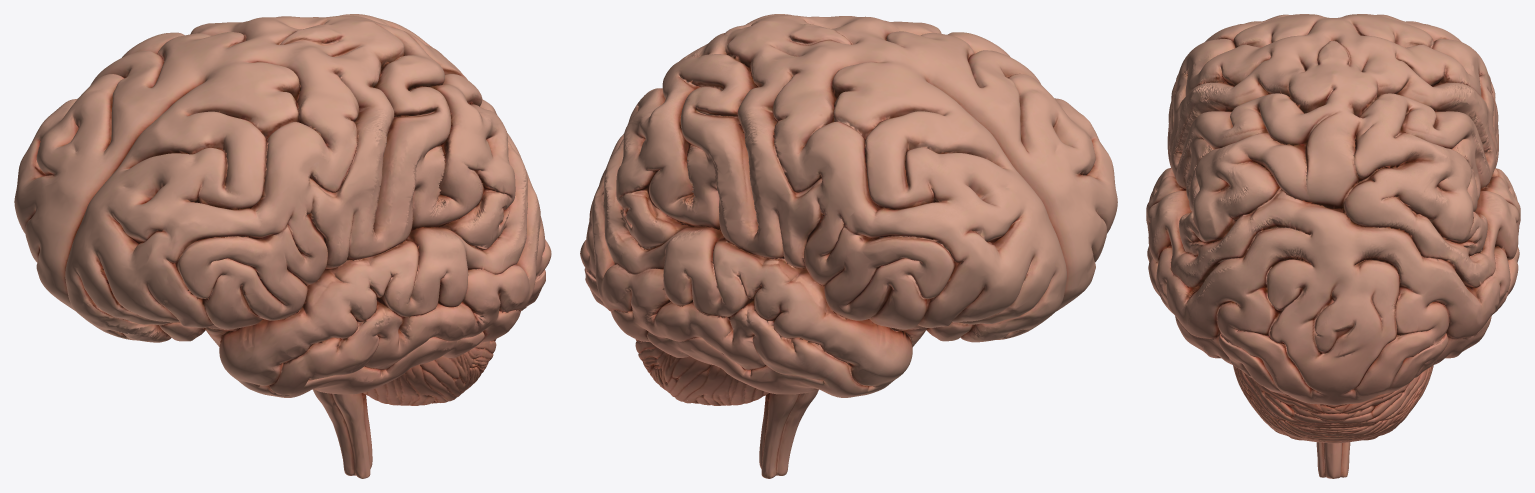
The model's file is brain-v2.glb.
3 renders of one model, left to right at view 1: azimuth 30°, elevation 25°; view 2: azimuth 150°, elevation 25°; view 3: azimuth 270°, elevation 25°, orthographic. The views are drawn at different scales.
Parts seen in each view (by area): view 1: tripo_node_951e36cc-e4a2-4775-9232-37452bf6f2e1; view 2: tripo_node_951e36cc-e4a2-4775-9232-37452bf6f2e1; view 3: tripo_node_951e36cc-e4a2-4775-9232-37452bf6f2e1.
Part boxes in pixels (x1,y1,x2,y2): tripo_node_951e36cc-e4a2-4775-9232-37452bf6f2e1: (14, 14, 551, 478); tripo_node_951e36cc-e4a2-4775-9232-37452bf6f2e1: (580, 14, 1117, 478); tripo_node_951e36cc-e4a2-4775-9232-37452bf6f2e1: (1146, 14, 1520, 478).
Size of the model in its own units: 0.9801 by 0.9092 by 0.7575.
1 material, 1 textured.
